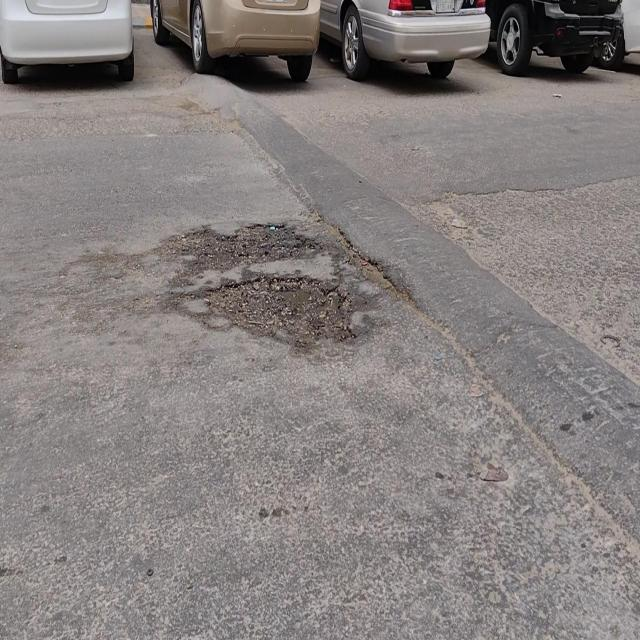Potholes: (203, 270, 356, 347), (174, 216, 320, 273)
